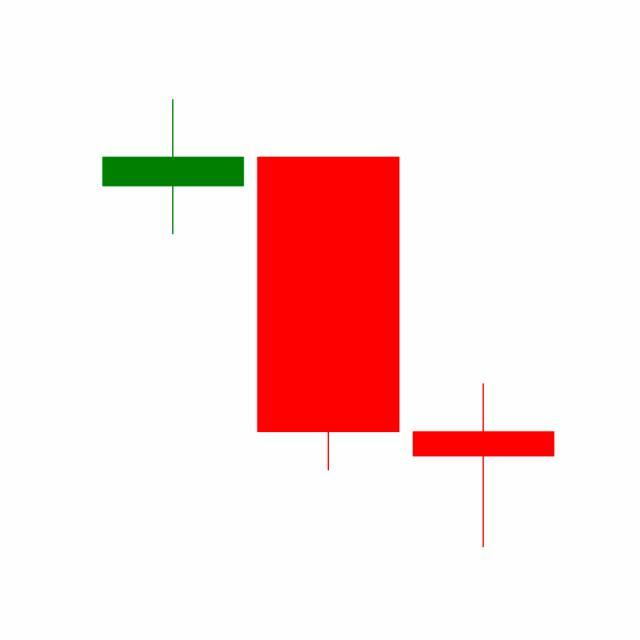Spinning Top: (406, 382, 562, 550)
